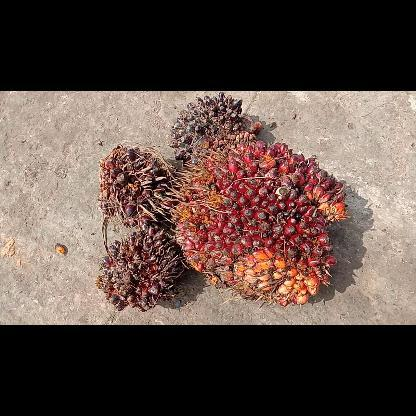TBS abnormal: (95, 223, 185, 313), (97, 142, 179, 226), (169, 91, 262, 165)
TBS masak: (166, 137, 350, 305)
